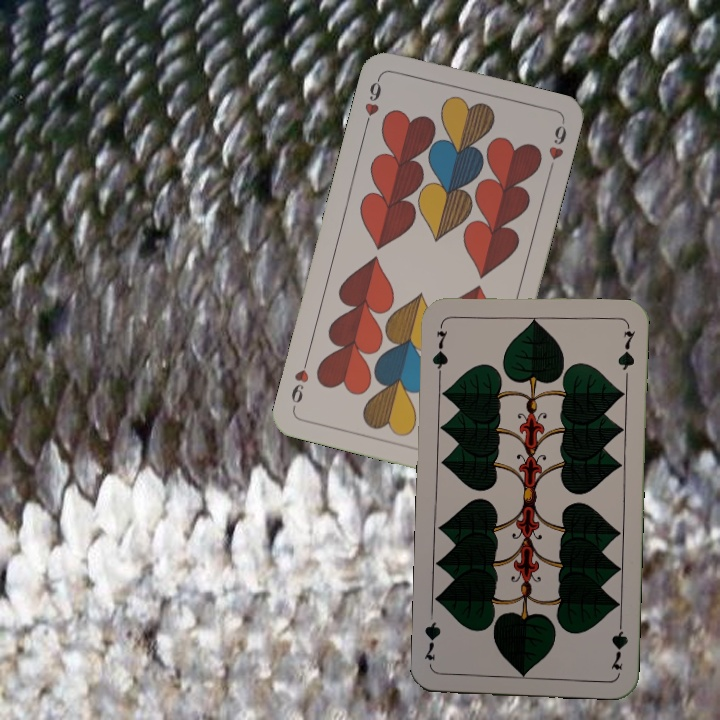G7: (607, 614, 630, 672), (428, 319, 450, 378)
H9: (360, 72, 385, 130)
